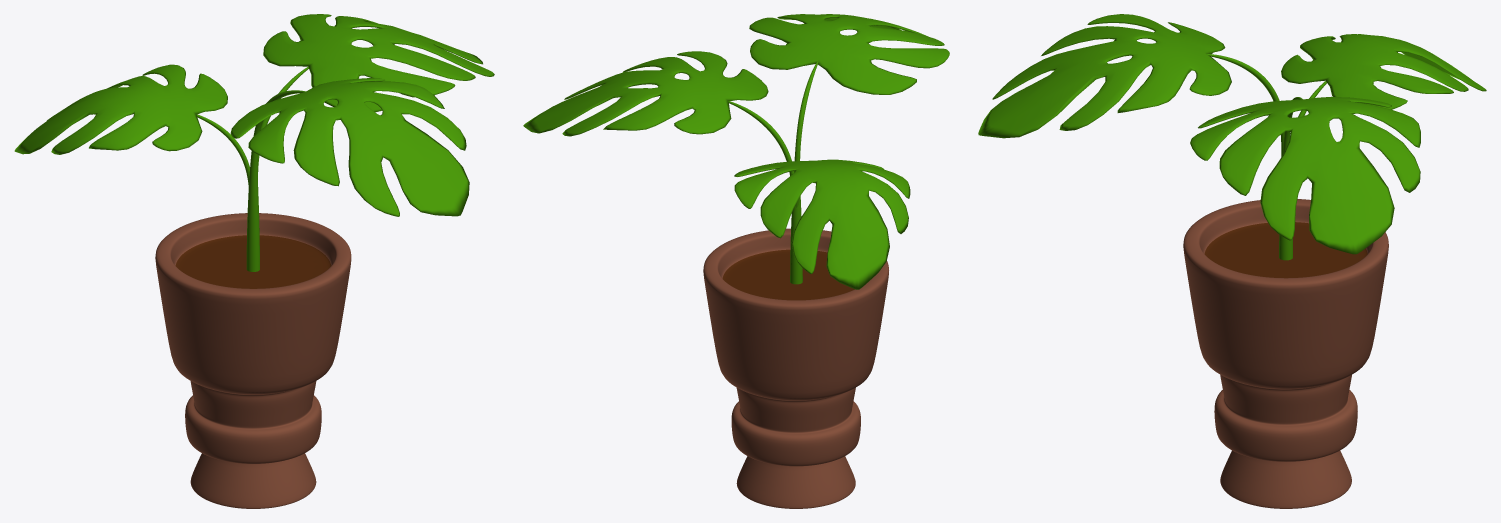
File: MonsteraPlant03.fbx
3 views of the same model, side by side, from view 1: azimuth 30°, elevation 25°; view 2: azimuth 150°, elevation 25°; view 3: azimuth 270°, elevation 25° (orthographic). The views are drawn at different scales.
Parts seen in each view (by area): view 1: PlantPot03, Leaf01, Leaf02, Leaf03, Stem01; view 2: PlantPot03, Leaf02, Leaf03, Leaf01, Stem01, Stem03; view 3: PlantPot03, Leaf03, Leaf01, Leaf02, Stem01.
Boxes of the visible parts, x1,y1,x2,y2 form: PlantPot03: (155, 213, 351, 508); Leaf01: (230, 78, 469, 216); Leaf02: (14, 64, 227, 154); Leaf03: (263, 14, 494, 112); Stem01: (246, 90, 306, 271); PlantPot03: (703, 228, 888, 508); Leaf02: (734, 159, 910, 289); Leaf03: (523, 51, 768, 136); Leaf01: (749, 14, 949, 94); Stem01: (790, 61, 818, 284); Stem03: (728, 101, 794, 175); PlantPot03: (1183, 199, 1388, 508); Leaf03: (1190, 96, 1420, 254); Leaf01: (978, 14, 1231, 138); Leaf02: (1281, 34, 1486, 109); Stem01: (1207, 54, 1292, 260).
Bounding box in the file's own units: 703 × 684 × 694.
